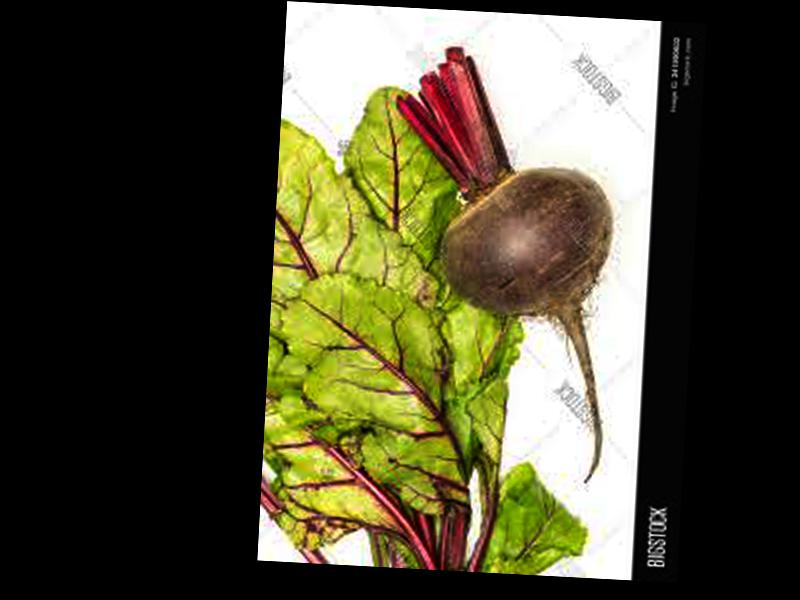Beet: (377, 43, 622, 483)
